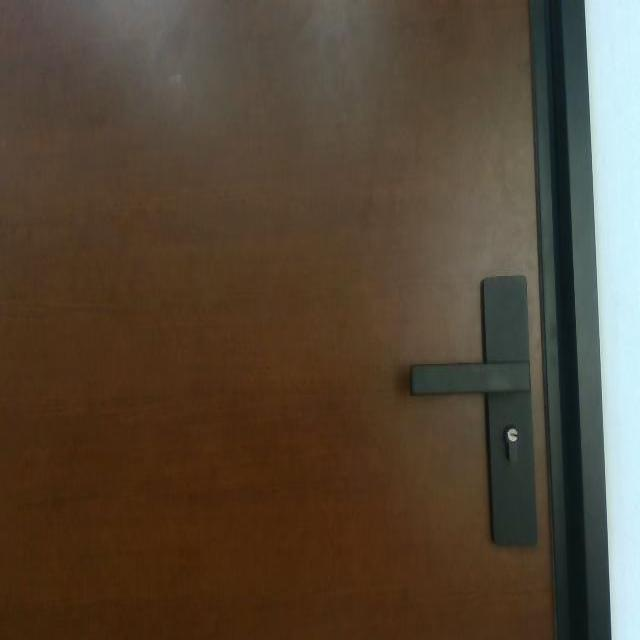doorhandle: (402, 352, 536, 405)
